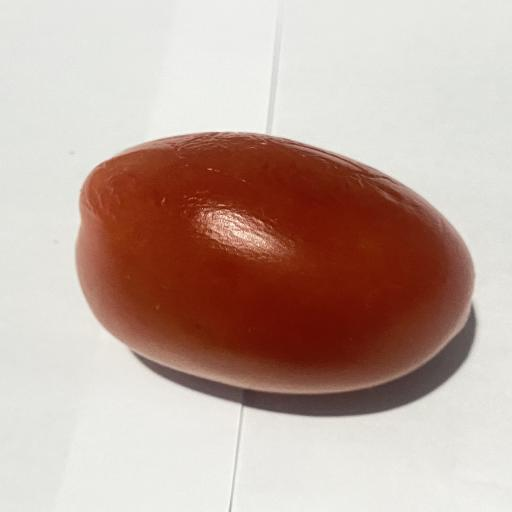spoiled: (77, 132, 474, 393)
